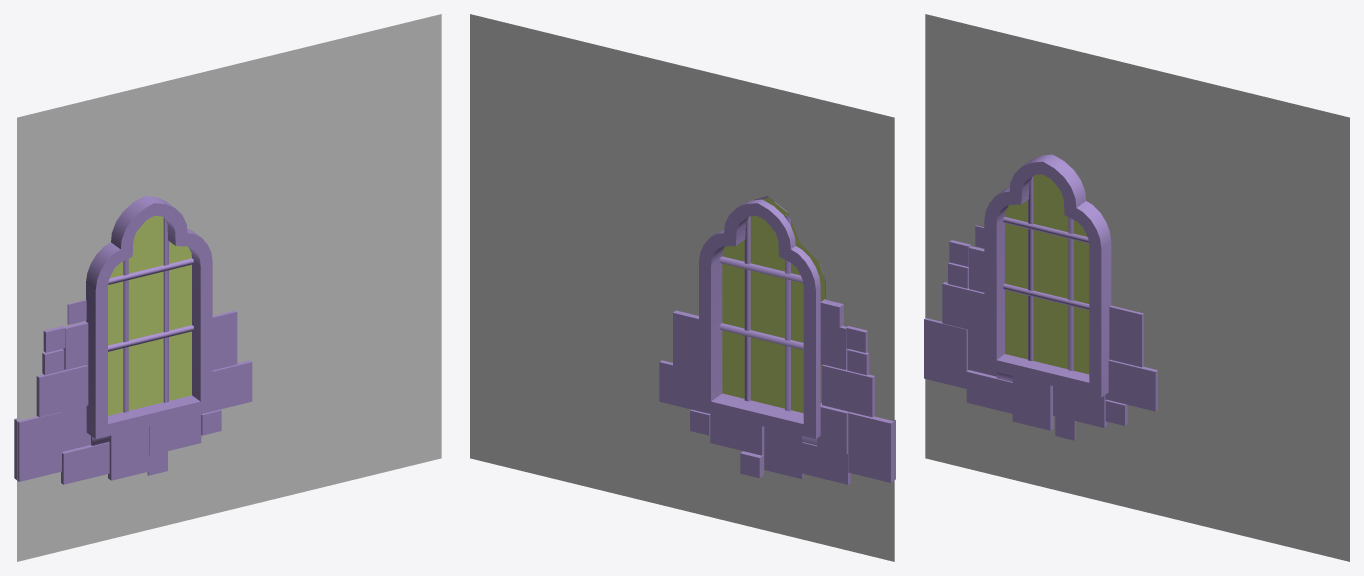
Rendered from window_b_outside_variant_c.fbx.
3 views of the same model, side by side, from view 1: azimuth 30°, elevation 25°; view 2: azimuth 150°, elevation 25°; view 3: azimuth 330°, elevation 25° (orthographic).
Parts seen in each view (by area): view 1: variant_c; view 2: variant_c; view 3: variant_c.
Part boxes in pixels (left/top/right/bottom): variant_c: left=14, top=14, right=441, bottom=561; variant_c: left=470, top=14, right=895, bottom=561; variant_c: left=924, top=14, right=1349, bottom=561.
Size of the model in its own units: 5 by 5 by 0.4.
